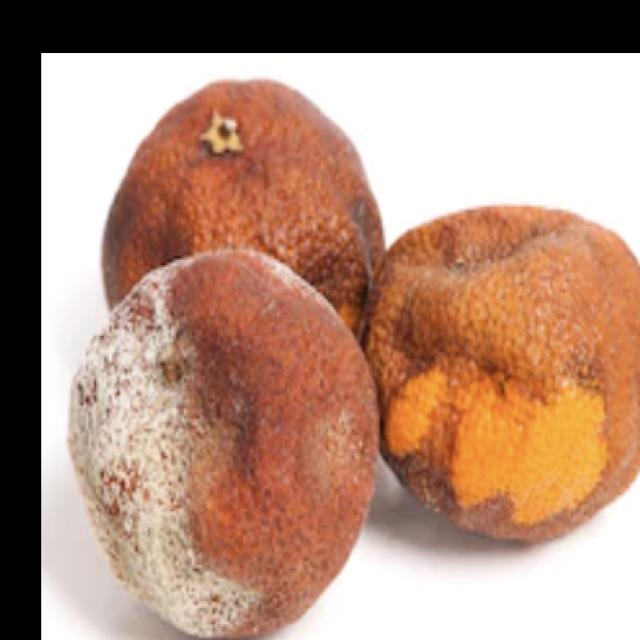sangat_busuk: (70, 241, 383, 640), (367, 198, 640, 551), (96, 76, 379, 398)
